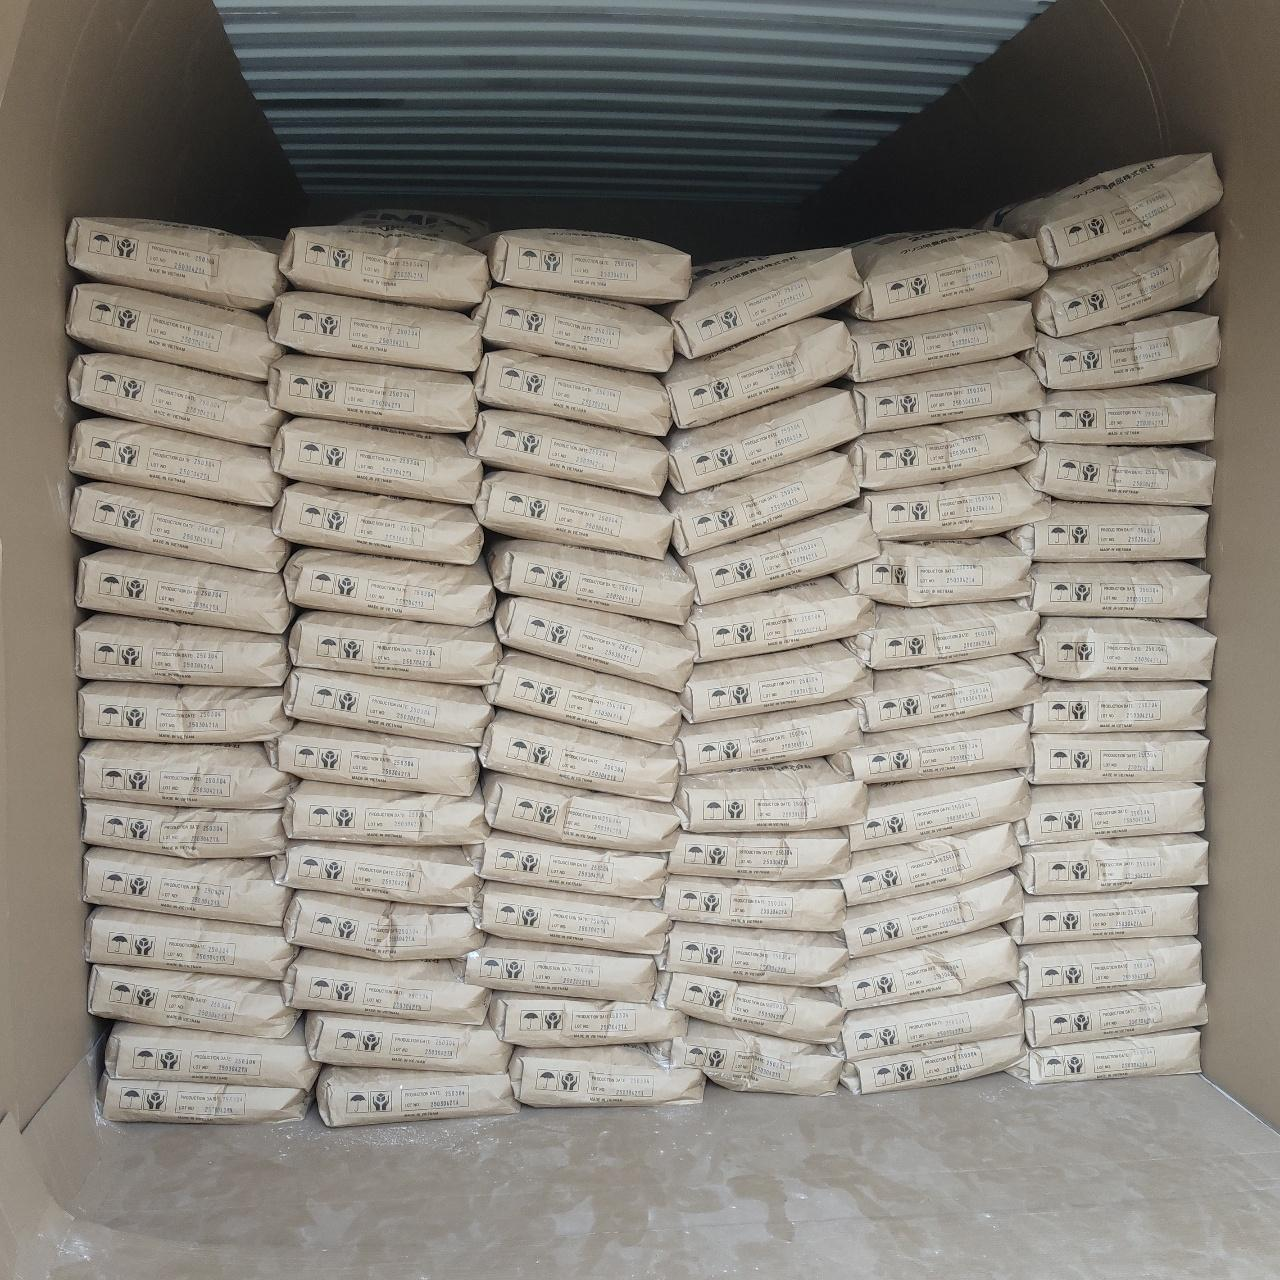sack: (988, 152, 1222, 267), (671, 248, 861, 358), (663, 317, 852, 427), (279, 211, 488, 309), (67, 284, 282, 379), (662, 451, 858, 555), (666, 387, 860, 492), (66, 217, 286, 309), (681, 500, 879, 602), (68, 354, 285, 446), (72, 482, 288, 572), (70, 417, 285, 507), (1032, 233, 1218, 336), (496, 597, 695, 691), (76, 549, 293, 634), (272, 418, 482, 504), (481, 709, 680, 798), (849, 229, 1047, 318), (467, 409, 668, 496), (487, 540, 694, 624), (268, 291, 482, 372), (473, 286, 672, 373), (475, 471, 672, 558), (272, 483, 483, 564), (477, 349, 671, 436), (492, 651, 680, 740), (285, 667, 493, 746), (818, 927, 1018, 1009), (285, 548, 495, 626), (268, 354, 475, 433), (84, 847, 290, 926), (684, 577, 872, 662), (289, 610, 501, 685), (480, 229, 690, 304), (85, 906, 298, 979), (484, 772, 682, 850), (843, 870, 1022, 956), (285, 949, 489, 1024), (1027, 310, 1220, 389), (76, 614, 287, 686), (272, 722, 479, 795), (89, 965, 298, 1037), (847, 300, 1035, 380), (681, 642, 869, 721), (841, 822, 1021, 904), (650, 1018, 844, 1094), (852, 356, 1045, 432), (106, 1022, 319, 1090), (835, 984, 1022, 1061), (847, 771, 1028, 850), (852, 655, 1040, 731), (79, 741, 294, 807), (833, 710, 1029, 782), (674, 759, 867, 832), (470, 882, 668, 953), (462, 831, 668, 898), (850, 417, 1038, 489), (283, 890, 482, 958), (675, 701, 861, 773), (835, 537, 1029, 605), (842, 601, 1040, 667), (657, 972, 845, 1041), (272, 843, 481, 905), (283, 781, 488, 844), (864, 469, 1048, 538), (80, 682, 291, 741), (462, 937, 656, 1001), (305, 1012, 510, 1072), (1022, 442, 1215, 505), (317, 1066, 518, 1126), (1019, 619, 1216, 680), (657, 922, 848, 984), (1017, 782, 1204, 845), (1026, 382, 1215, 444), (1011, 502, 1206, 560), (82, 801, 283, 857), (1025, 984, 1206, 1046), (510, 1048, 703, 1106), (1019, 937, 1201, 998), (1019, 835, 1207, 894), (1007, 1029, 1200, 1085), (840, 1036, 1028, 1093), (490, 992, 683, 1047), (1001, 889, 1197, 943), (1026, 562, 1210, 618), (662, 876, 845, 930), (99, 1074, 309, 1120), (1019, 682, 1207, 732), (668, 829, 849, 880), (1031, 733, 1208, 784)
